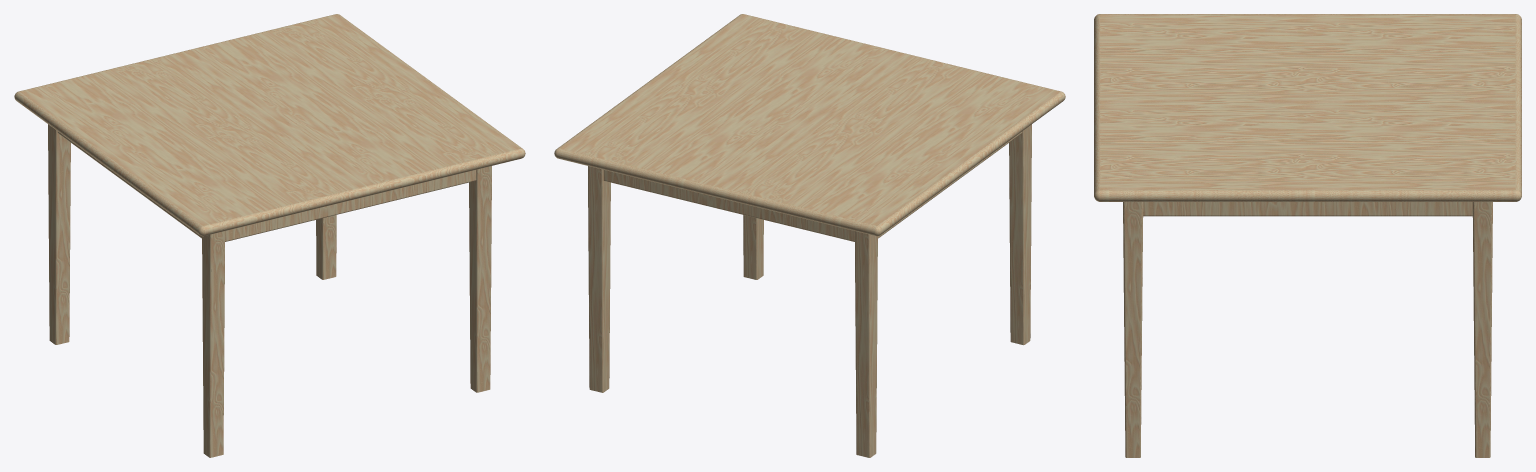
3 renders of one model, left to right at view 1: azimuth 30°, elevation 25°; view 2: azimuth 150°, elevation 25°; view 3: azimuth 270°, elevation 25°, orthographic. The views are drawn at different scales.
Visible parts, largest first — view 1: Geom3D_cele, Geom3D_noha (×4), Geom3D_bokofka; view 2: Geom3D_cele, Geom3D_noha (×4), Geom3D_bokofka; view 3: Geom3D_cele, Geom3D_noha (×2), Geom3D_bokofka.
Boxes of the visible parts, <box> form: Geom3D_cele: <box>14,14,525,236</box>; Geom3D_noha (×4): <box>48,124,491,457</box>; Geom3D_bokofka: <box>225,170,476,241</box>; Geom3D_cele: <box>554,14,1065,236</box>; Geom3D_noha (×4): <box>588,124,1031,457</box>; Geom3D_bokofka: <box>603,170,854,241</box>; Geom3D_cele: <box>1094,14,1521,201</box>; Geom3D_noha (×2): <box>1123,202,1492,457</box>; Geom3D_bokofka: <box>1143,202,1472,216</box>.
Size of the model in its own units: 1.04 by 0.745 by 1.04.
1 material, 1 textured.
